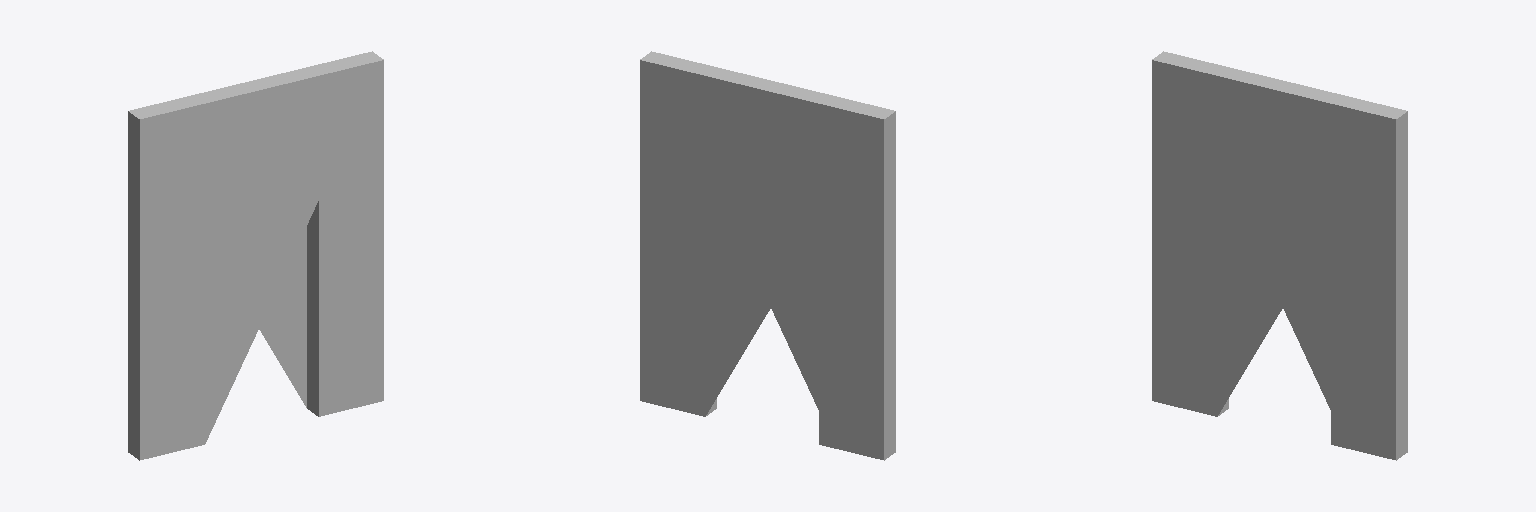
File: door.obj
3 views of the same model, side by side, from view 1: azimuth 30°, elevation 25°; view 2: azimuth 150°, elevation 25°; view 3: azimuth 330°, elevation 25° (orthographic).
Visible parts, largest first — view 1: Wall+door_Cube.004; view 2: Wall+door_Cube.004; view 3: Wall+door_Cube.004.
Boxes of the visible parts, x1=… form: Wall+door_Cube.004: x1=128, y1=51, x2=383, y2=460; Wall+door_Cube.004: x1=640, y1=51, x2=895, y2=460; Wall+door_Cube.004: x1=1152, y1=51, x2=1407, y2=460.
Size of the model in its own units: 3 by 4 by 0.25.